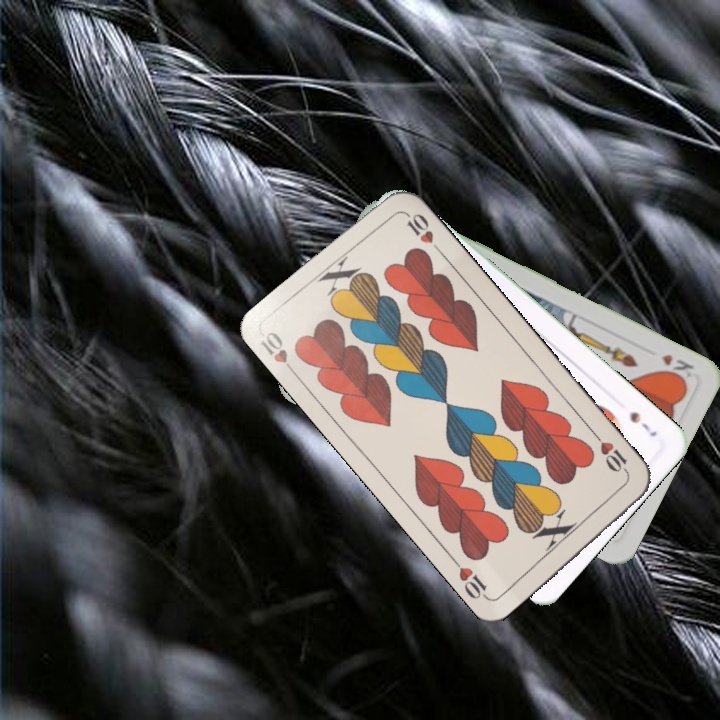H10: (256, 327, 301, 380), (590, 430, 633, 480)
HK: (657, 349, 697, 385)
S7: (626, 407, 660, 439)
